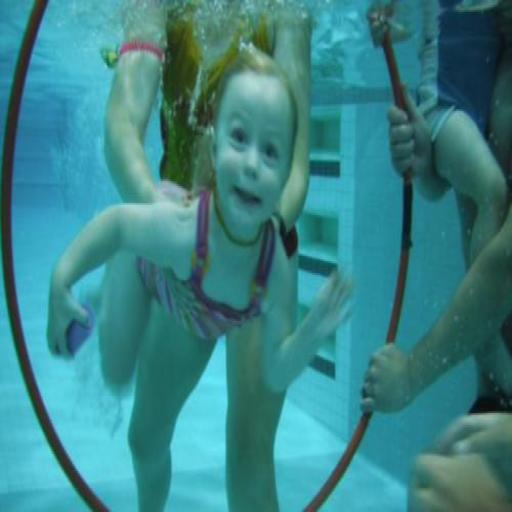swimming: (45, 10, 358, 510)
